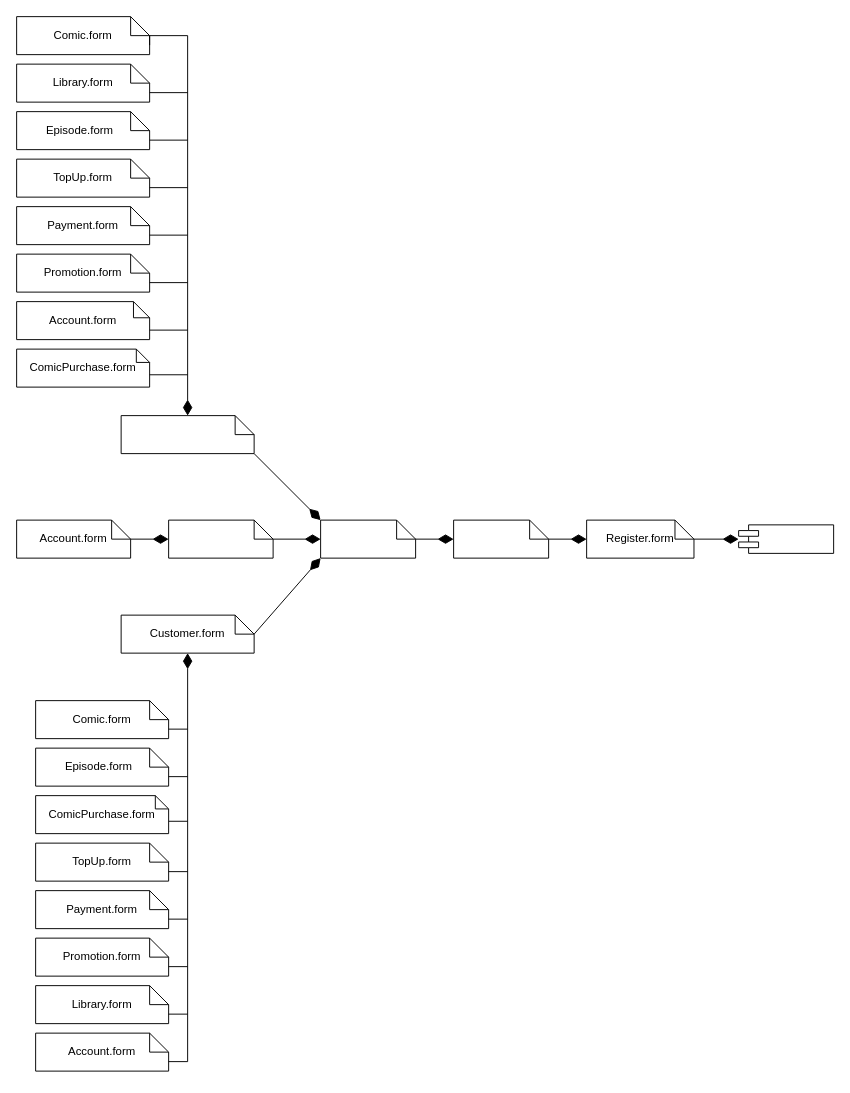
The diagram is 850 pixels wide and 1093 high, and some of its shapes have lost their labels. The shapes that lost their labels are listed below. From the top down, each one's centre as x and y in pixels, then its label:
At pixel 187 434: "Officer.form".
At pixel 220 538: "Admin.form".
At pixel 368 538: "Index.form".
At pixel 501 538: "Login.form".
At pixel 786 538: "Symtem.exe".
